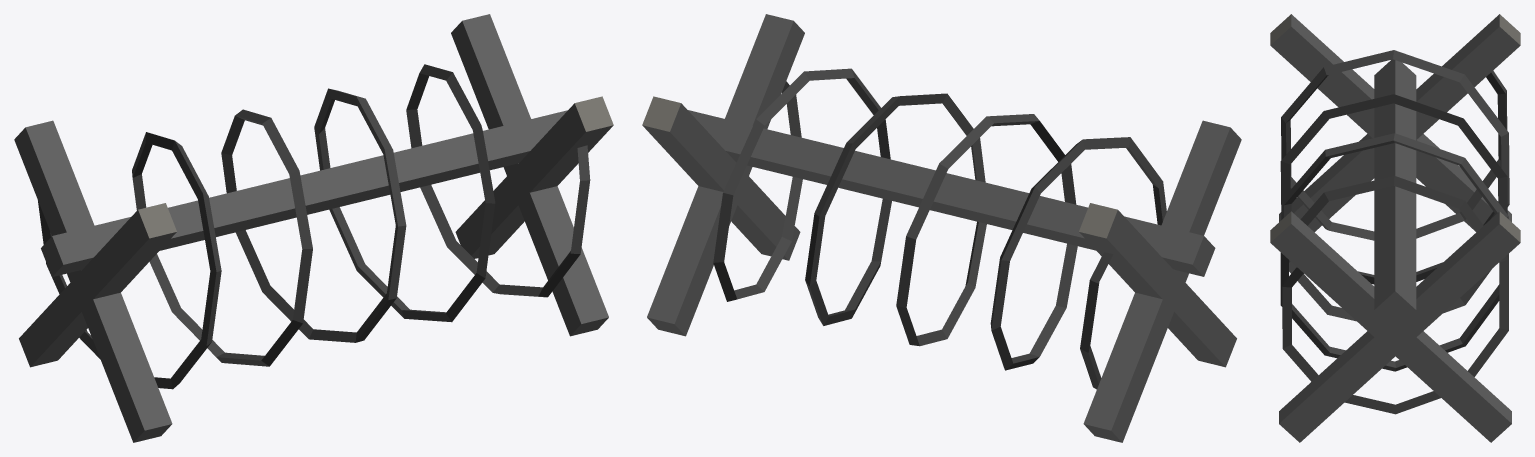
File: Barricade_2.FBX
3 renders of one model, left to right at view 1: azimuth 30°, elevation 25°; view 2: azimuth 150°, elevation 25°; view 3: azimuth 270°, elevation 25°, orthographic. The views are drawn at different scales.
Visible parts, largest first — view 1: barricade_2; view 2: barricade_2; view 3: barricade_2.
Part boxes in pixels (x1=…): barricade_2: x1=14, y1=14, x2=613, y2=442; barricade_2: x1=642, y1=14, x2=1241, y2=442; barricade_2: x1=1270, y1=14, x2=1520, y2=442.
Size of the model in its own units: 2.43 by 1.09 by 1.1.
Materials: 1 (1 with a texture image).
